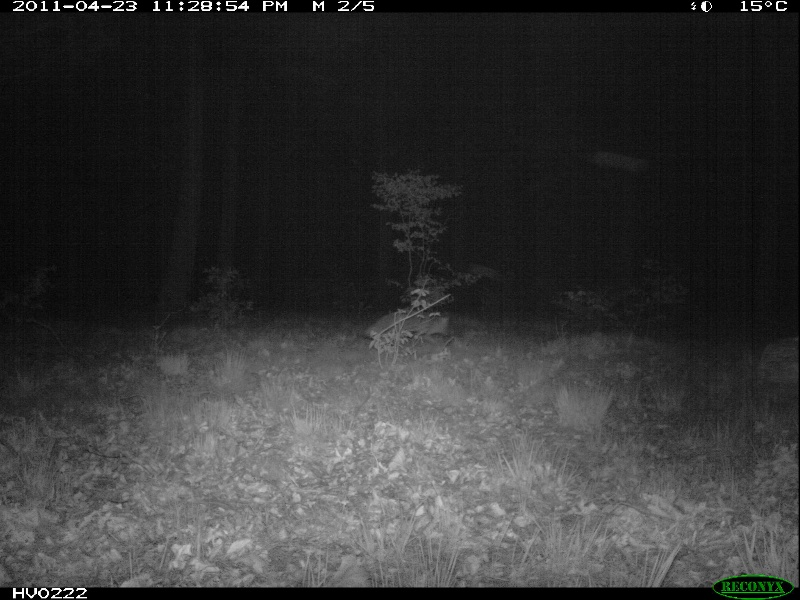fox: (355, 303, 456, 348)
